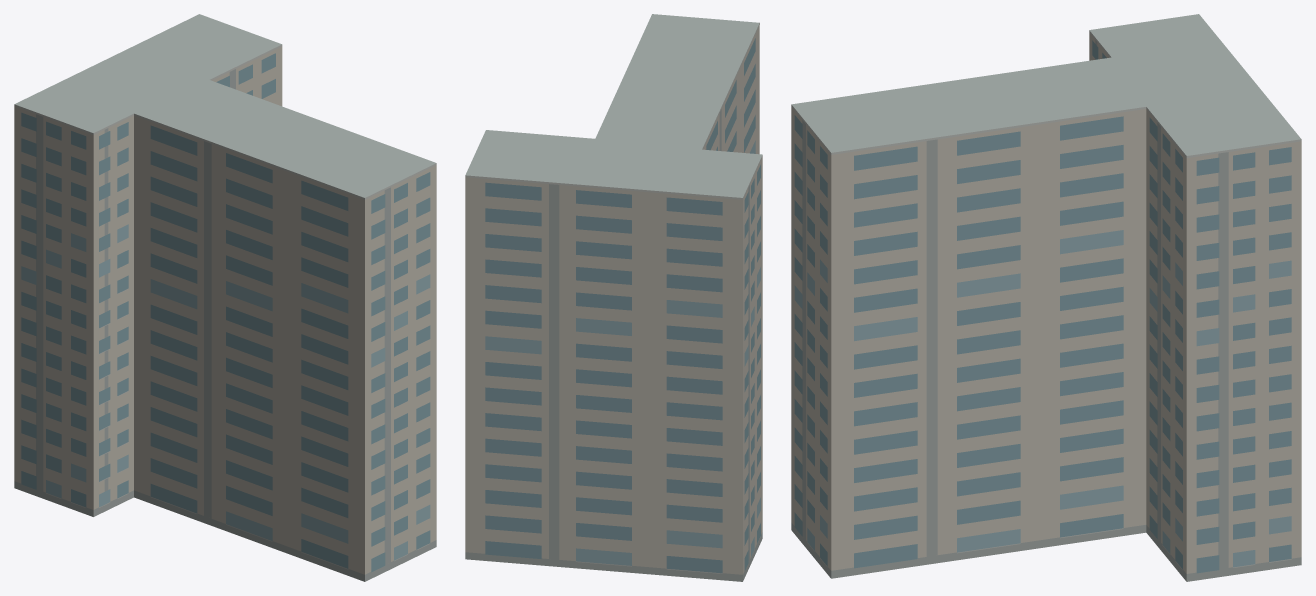
The model's file is residential-d0ad965e-e032-4c86-8aca-2f2e0a87f812.glb.
The picture shows the model from 3 angles, left to right: view 1: azimuth 30°, elevation 25°; view 2: azimuth 150°, elevation 25°; view 3: azimuth 270°, elevation 25°; orthographic projection. The views are drawn at different scales.
Parts seen in each view (by area): view 1: residential-d0ad965e-e032-4c86-8aca-2f2e0a87f812.tmp; view 2: residential-d0ad965e-e032-4c86-8aca-2f2e0a87f812.tmp; view 3: residential-d0ad965e-e032-4c86-8aca-2f2e0a87f812.tmp.
Part boxes in pixels (x1=…): residential-d0ad965e-e032-4c86-8aca-2f2e0a87f812.tmp: x1=14, y1=14, x2=436, y2=581; residential-d0ad965e-e032-4c86-8aca-2f2e0a87f812.tmp: x1=465, y1=14, x2=762, y2=581; residential-d0ad965e-e032-4c86-8aca-2f2e0a87f812.tmp: x1=791, y1=14, x2=1301, y2=581.
Bounding box in the file's own units: 35.06 × 49 × 53.21.
